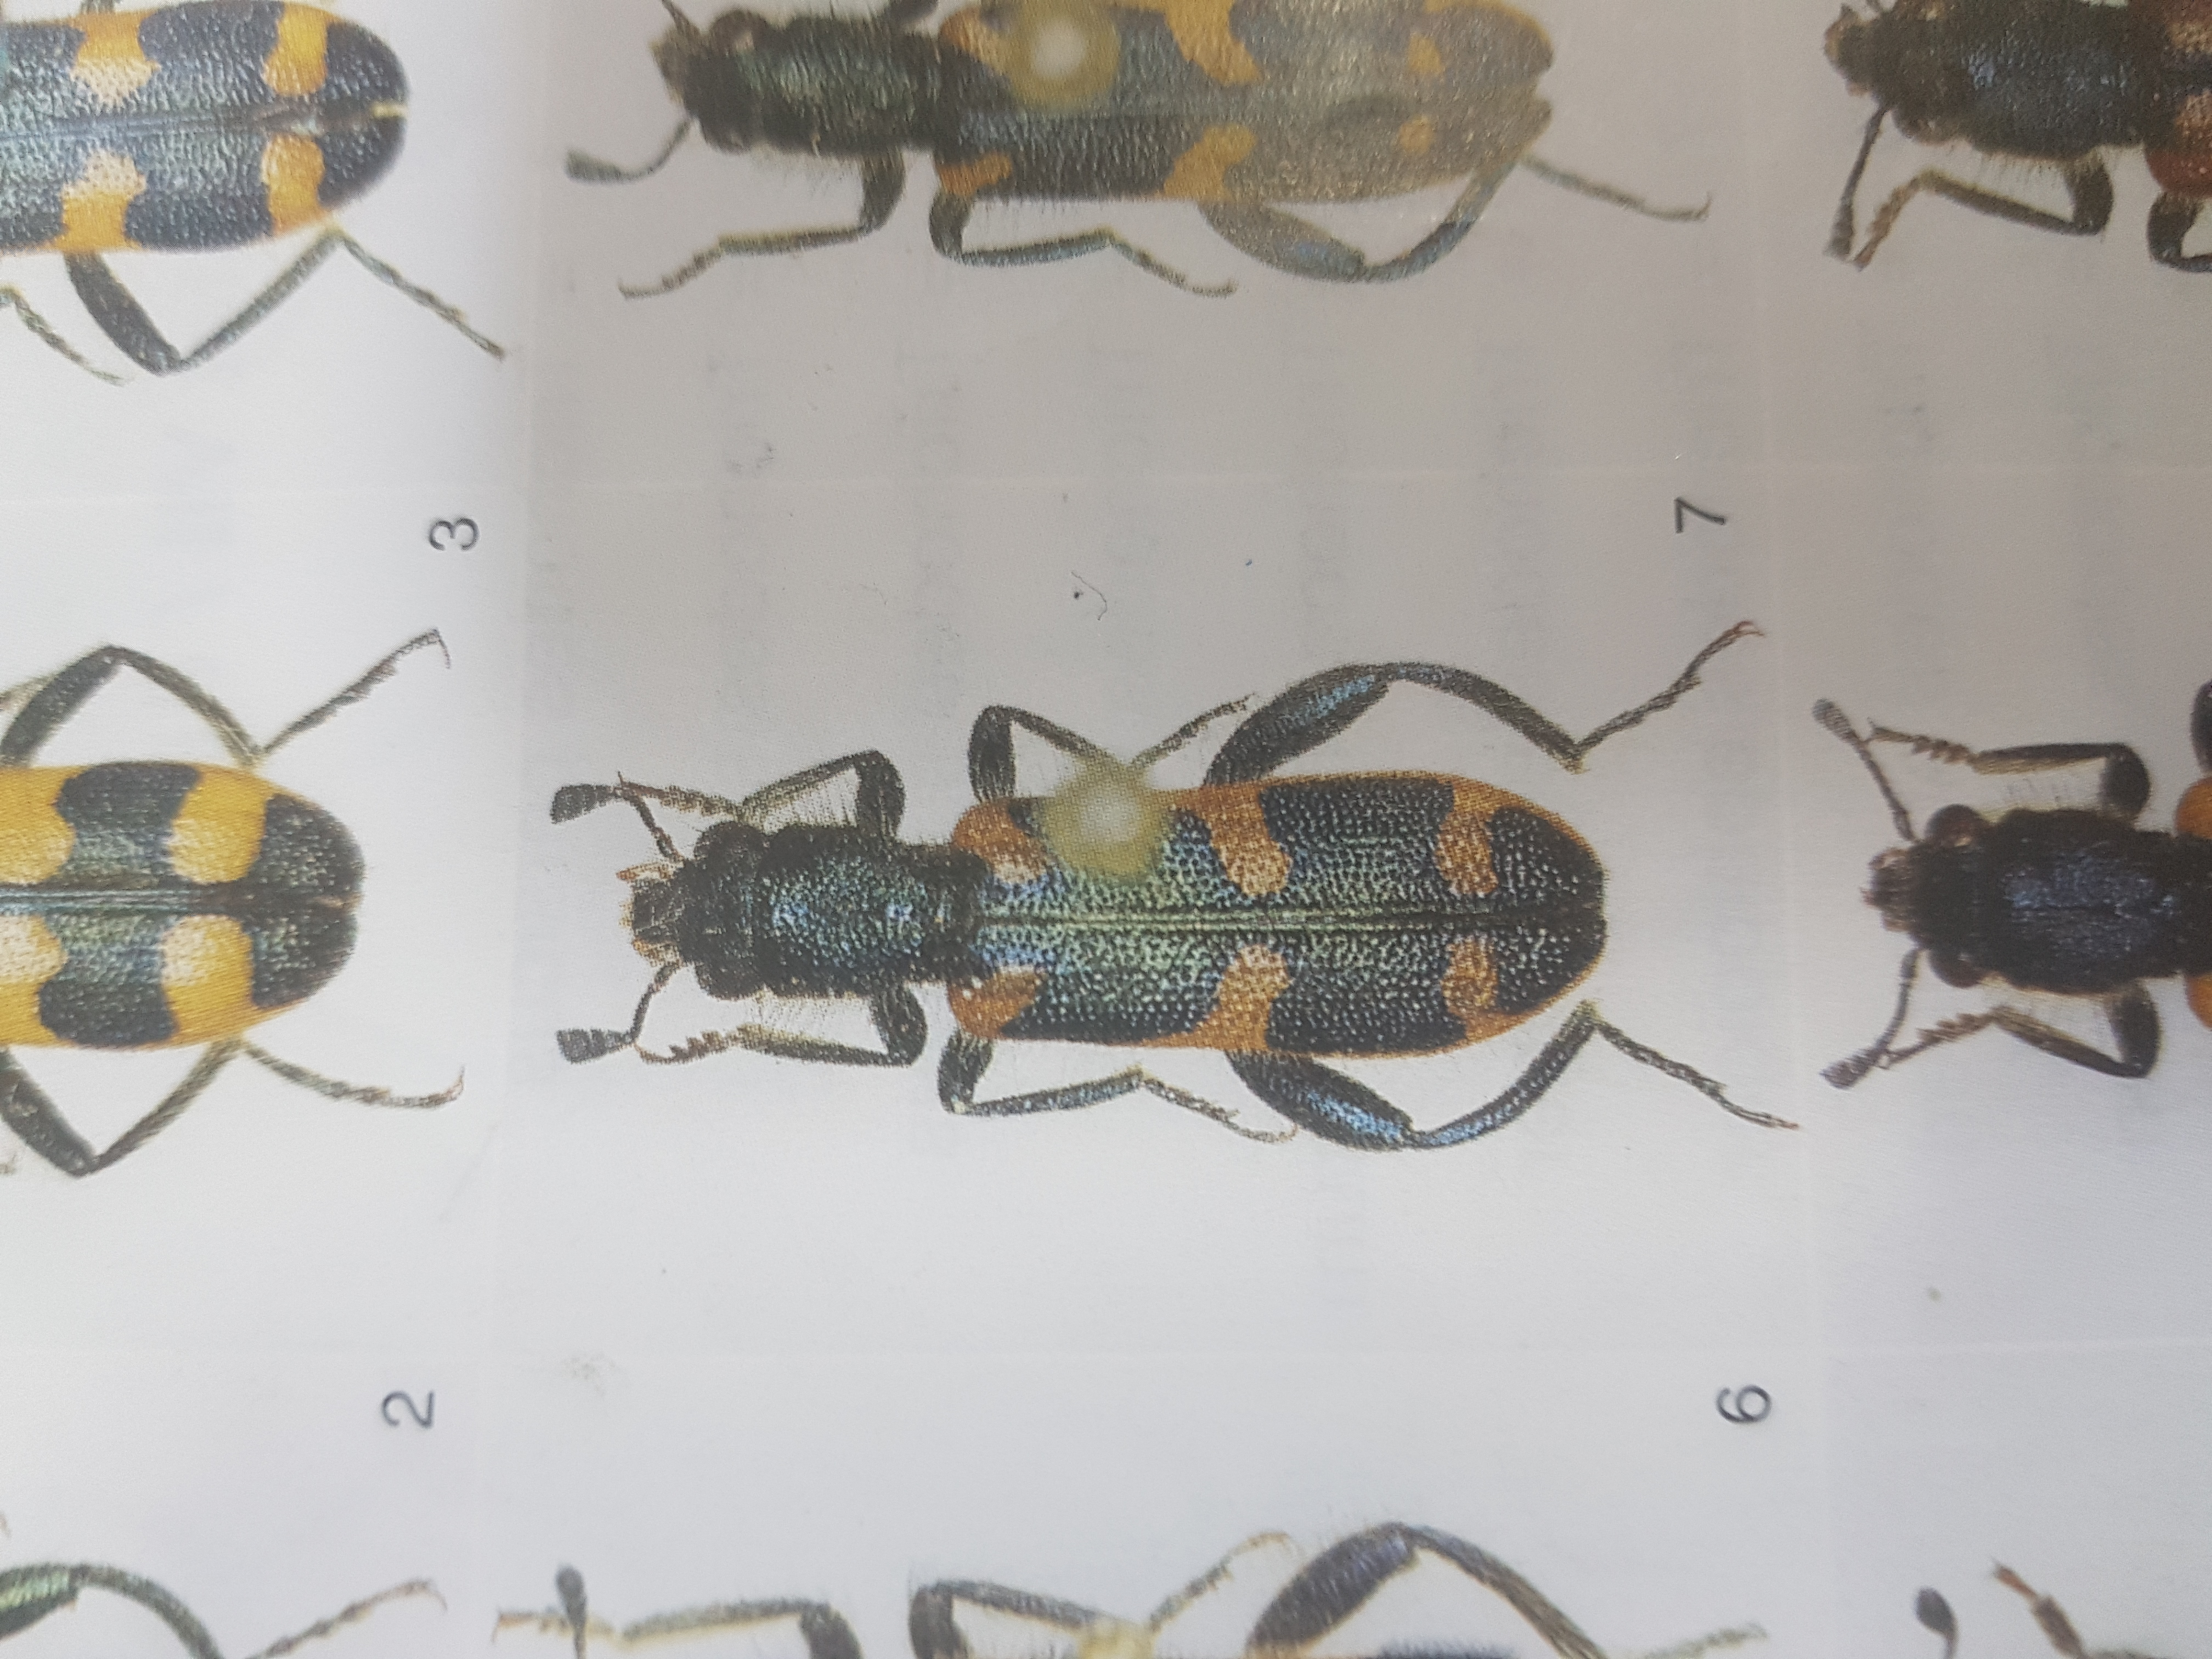trichodes_holtzi: (524, 587, 1817, 1173)
